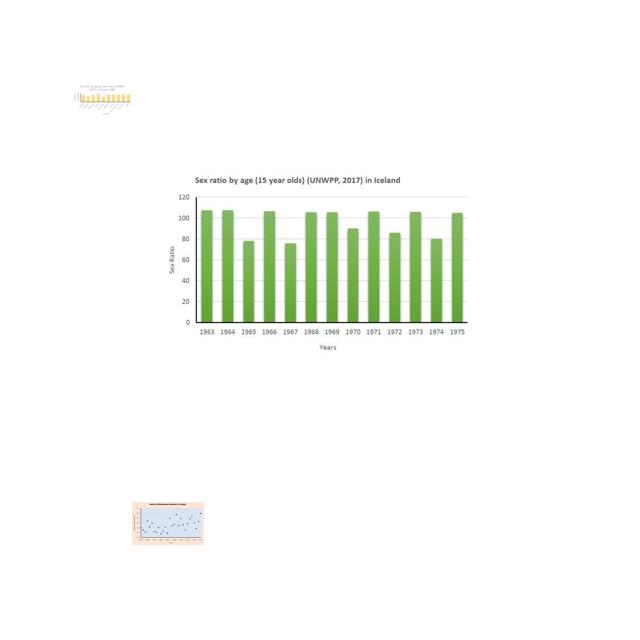Graph: (158, 169, 487, 358), (132, 502, 204, 545), (73, 84, 132, 116)
